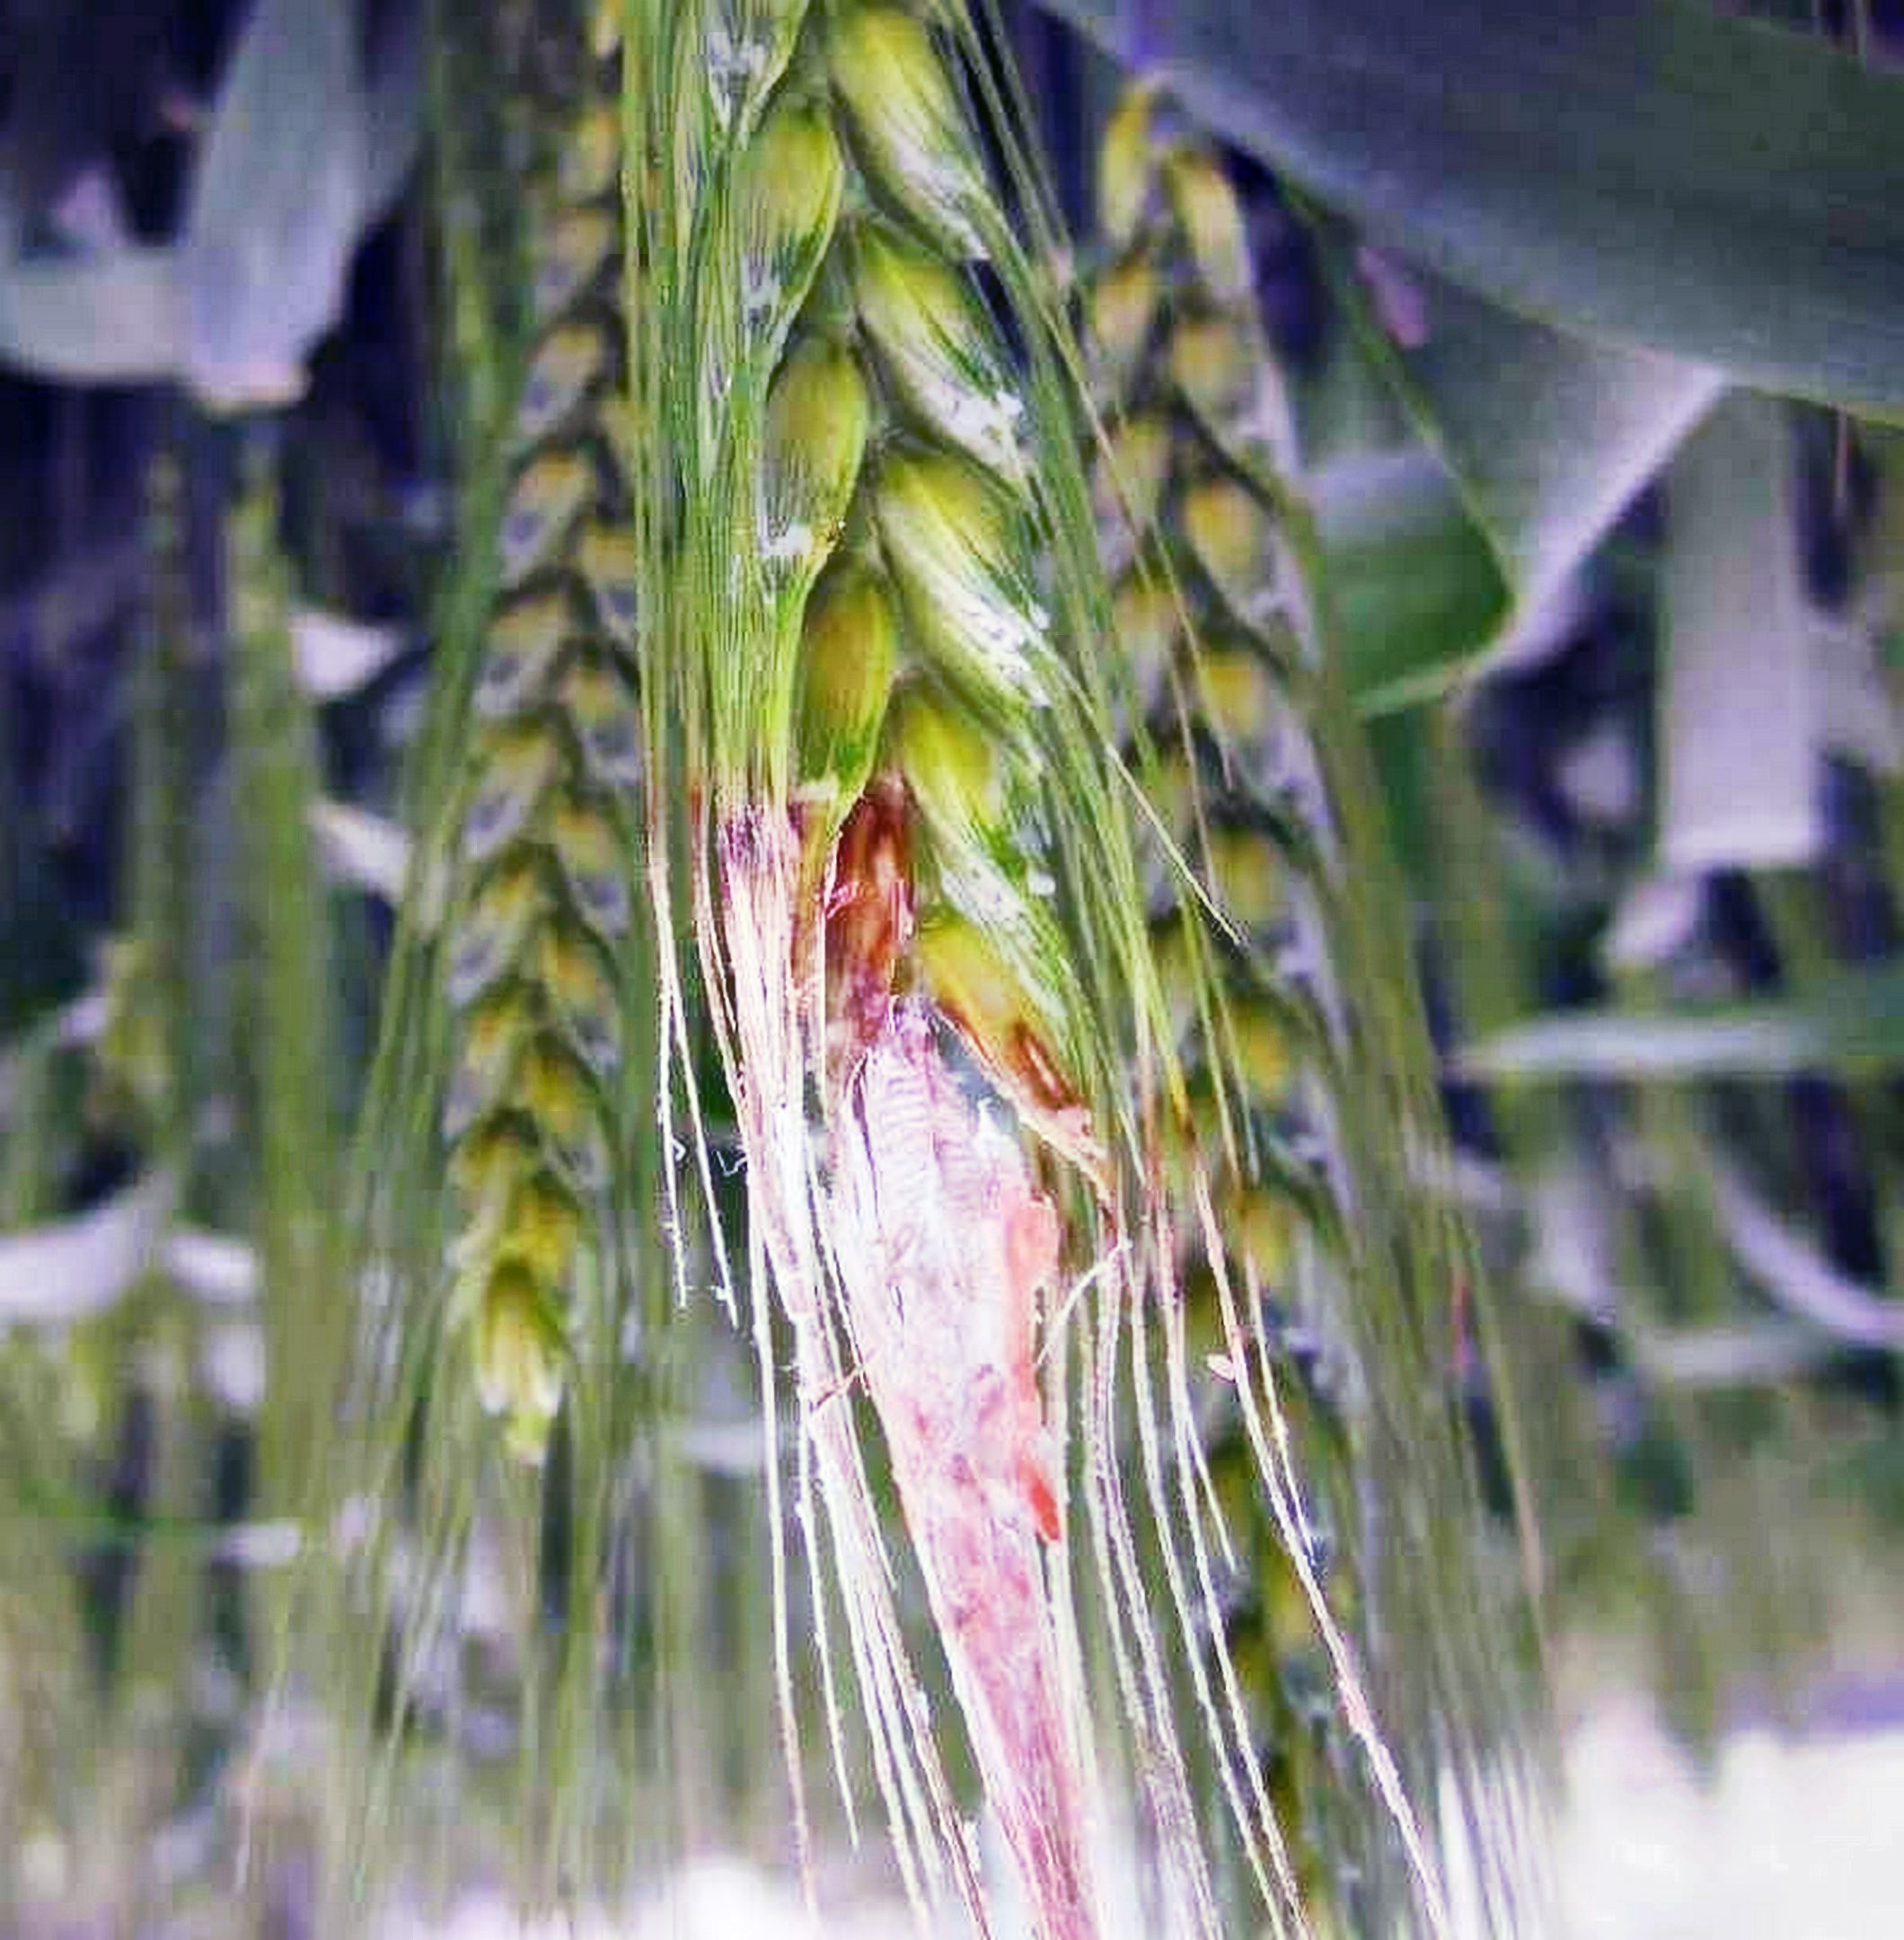Wheat scab: (609, 30, 1189, 1856)
